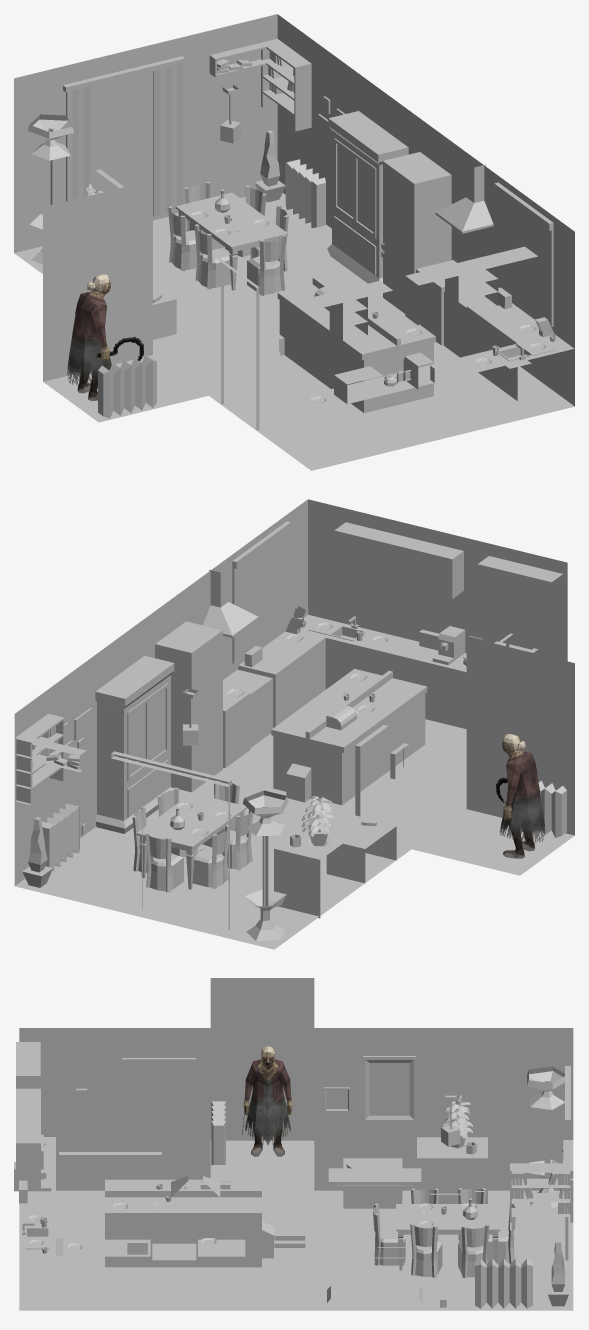
3 views of the same model, one above another, from view 1: azimuth 30°, elevation 25°; view 2: azimuth 150°, elevation 25°; view 3: azimuth 270°, elevation 25° (orthographic). The views are drawn at different scales.
Visible parts, largest first — view 1: Room, Furniture, Items1, Plane; view 2: Furniture, Room, Items1, Plane; view 3: Room, Furniture, Items1, Plane.
Part boxes in pixels (x1,y1,x2,y2): Room: [14, 14, 574, 470]; Furniture: [27, 38, 574, 413]; Items1: [85, 51, 555, 418]; Plane: [67, 274, 111, 400]; Furniture: [14, 522, 562, 940]; Room: [14, 499, 574, 949]; Items1: [32, 521, 566, 847]; Plane: [500, 734, 545, 858]; Room: [19, 978, 573, 1310]; Furniture: [16, 1042, 573, 1308]; Items1: [14, 1088, 570, 1256]; Plane: [243, 1046, 292, 1156].
Bounding box in the file's own units: 492 × 227 × 679.
